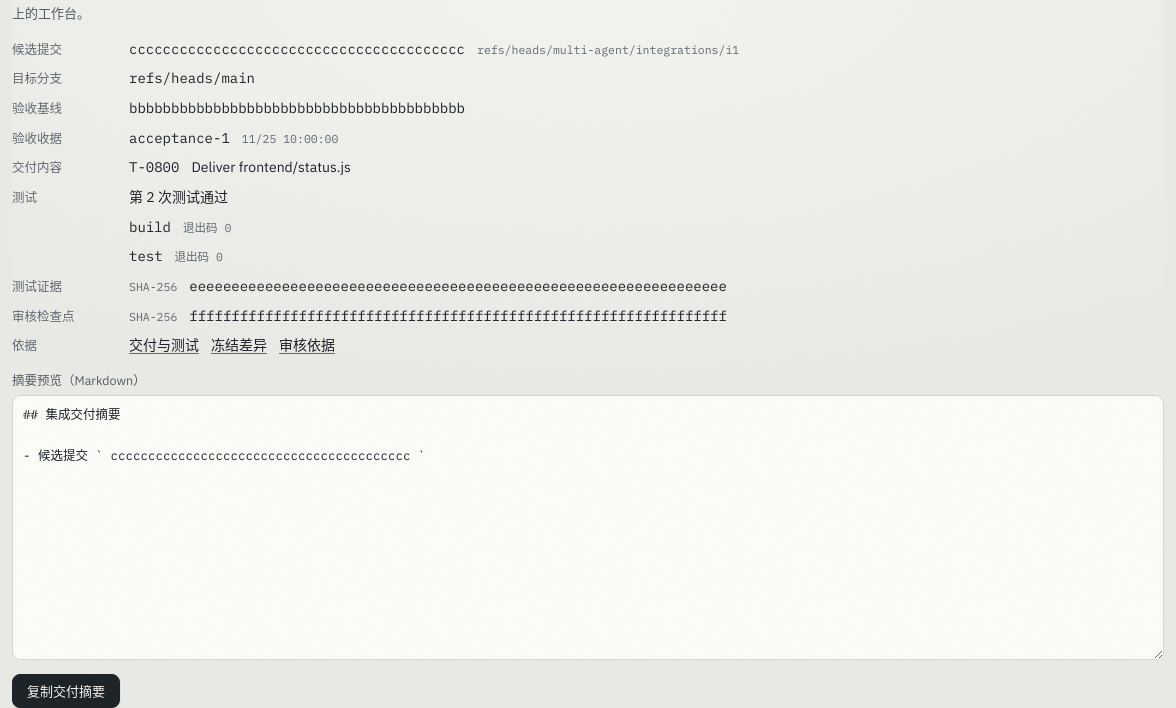
验收交付 › previews the receipt with full identifiers and reports whether the copy worked
The width and height of the screenshot is (1176, 708).
(page scrolled)
Expected: the list item "第 2 次测试通过" is shown, [129,188,228,206]
Click the button "复制交付摘要".
click(66, 691)  # box [12,674,120,707]
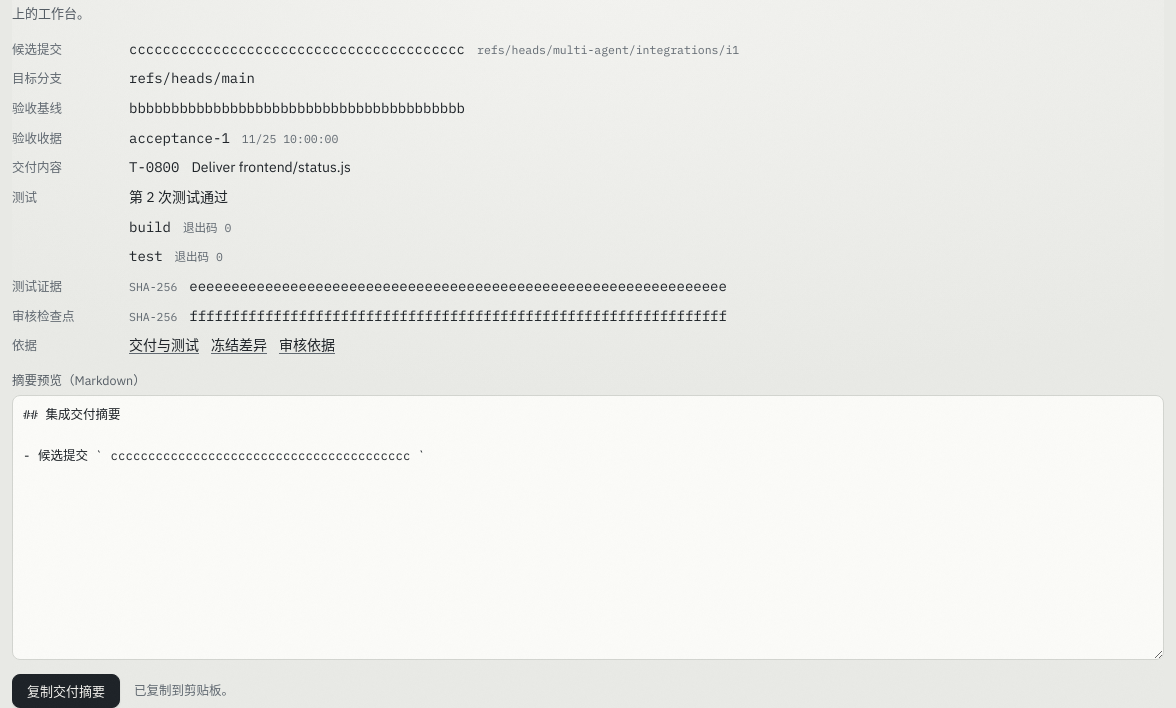
Now the text "已复制到剪贴板。" is shown, box [134,681,234,701]
Click the button "复制交付摘要".
click(66, 691)  # box [12,674,120,707]
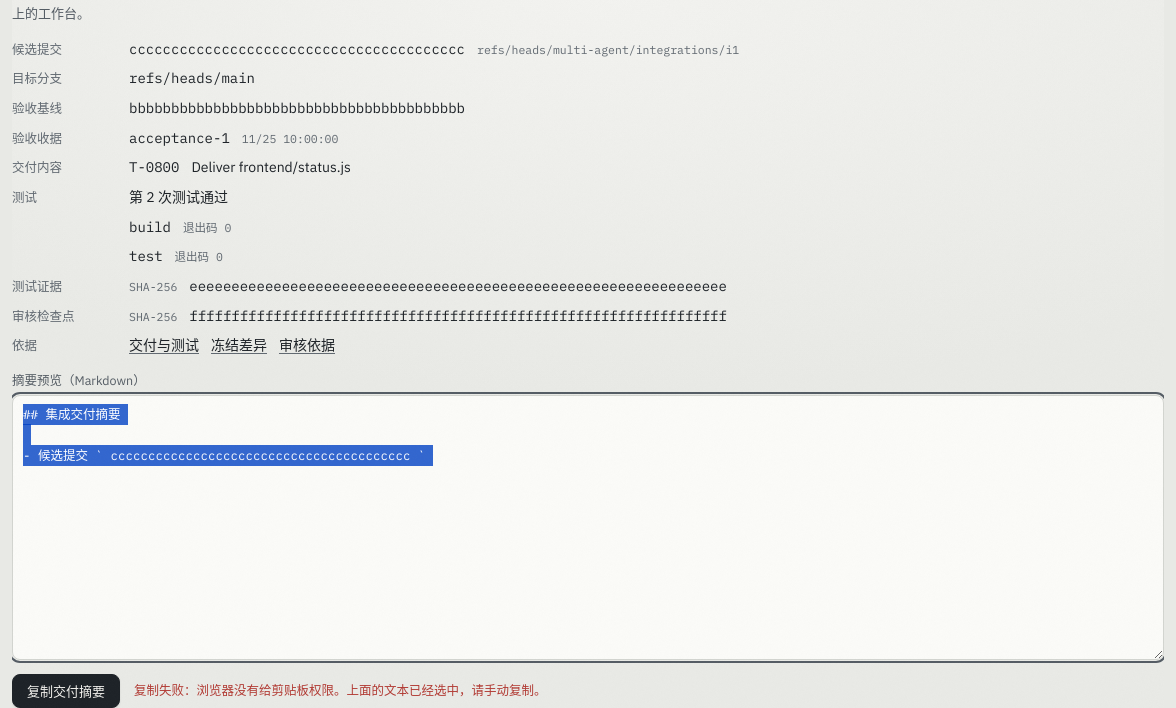
Now the text "复制失败：浏览器没有给剪贴板权限。上面的文本已经选中，请手动复制。" is shown, box [134,681,546,701]
